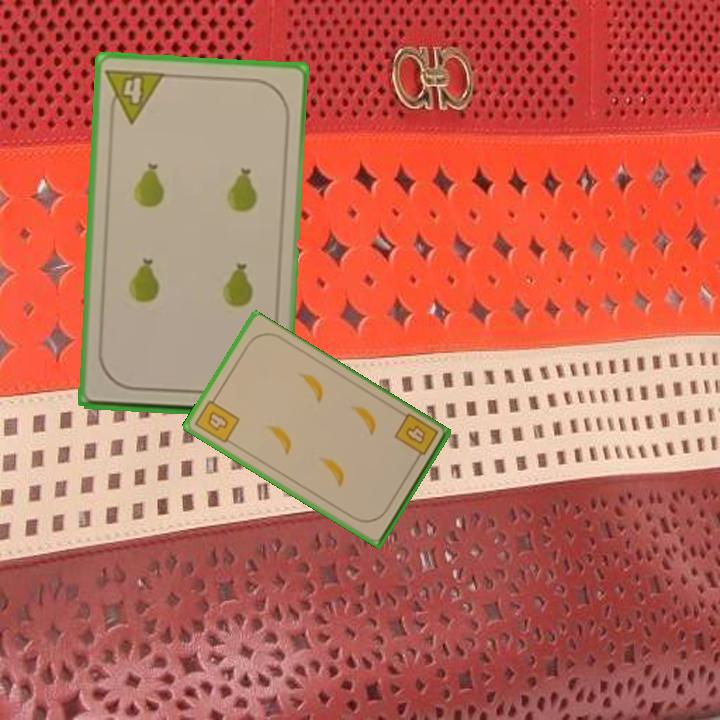4b: (191, 392, 243, 446), (391, 410, 441, 465)
4p: (102, 64, 168, 126)
